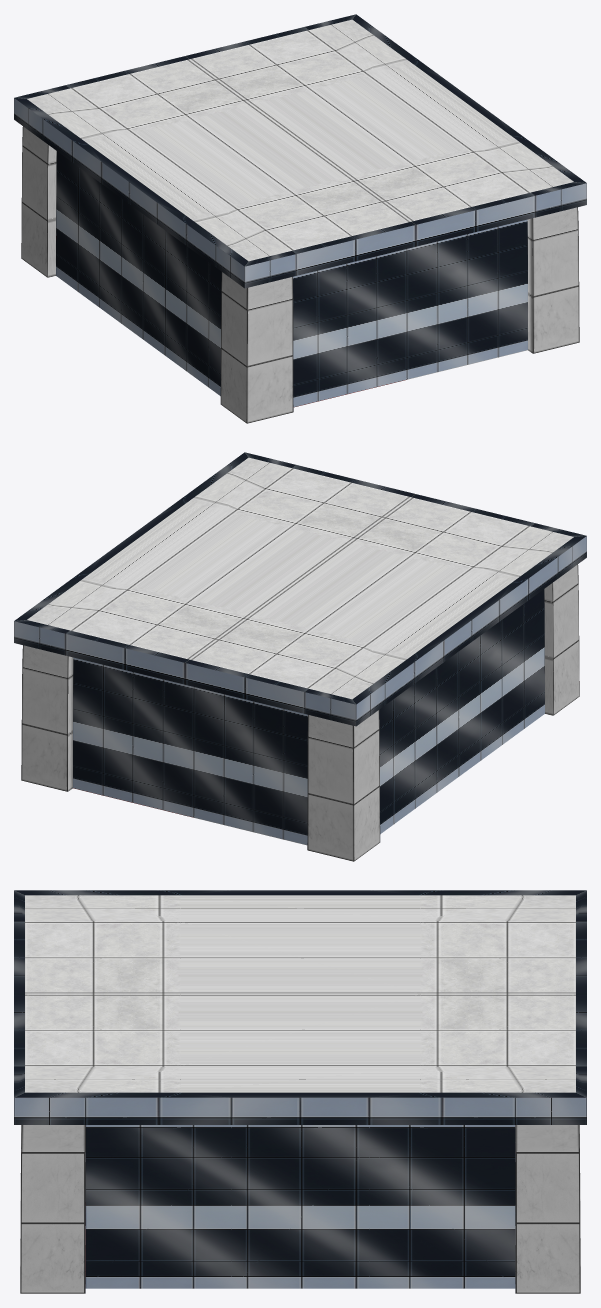
Rendered from Building2_v2.fbx.
3 views of the same model, one above another, from view 1: azimuth 30°, elevation 25°; view 2: azimuth 150°, elevation 25°; view 3: azimuth 270°, elevation 25° (orthographic). The views are drawn at different scales.
Visible parts, largest first — view 1: ModulateBuilding01:ChinaBuildingModulate03; view 2: ModulateBuilding01:ChinaBuildingModulate03; view 3: ModulateBuilding01:ChinaBuildingModulate03.
Part boxes in pixels (x1=…): ModulateBuilding01:ChinaBuildingModulate03: x1=14, y1=14, x2=586, y2=423; ModulateBuilding01:ChinaBuildingModulate03: x1=14, y1=452, x2=586, y2=861; ModulateBuilding01:ChinaBuildingModulate03: x1=14, y1=890, x2=586, y2=1293.
Size of the model in its own units: 1113 by 498 by 1300.
